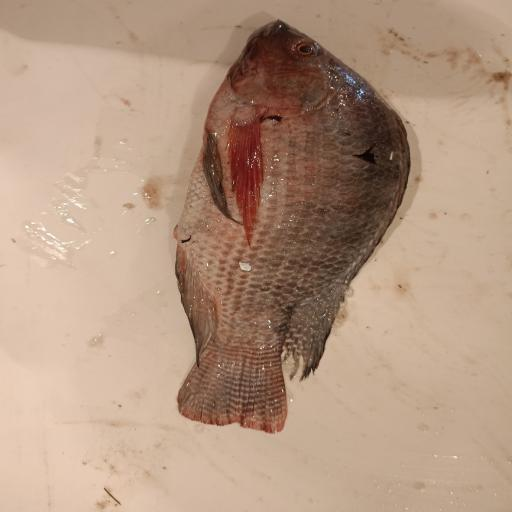Tilapia: (173, 19, 412, 434)
